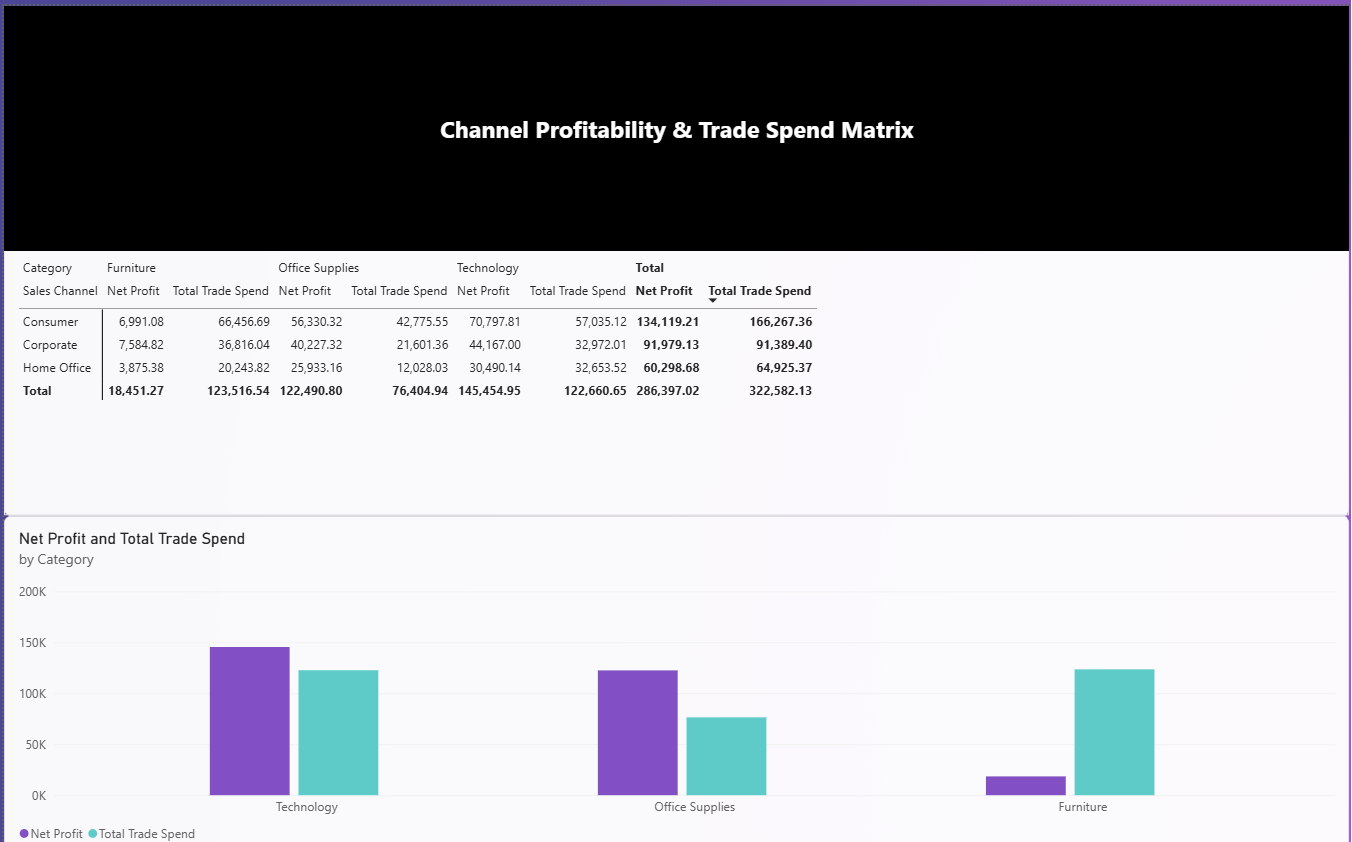

Layout of this report page (visuals, bound fields, positions):
{"tool":"powerbi","page":{"name":"Page 2","canvas":[1920,1080],"ordinal":1},"visuals":[{"type":"pivotTable","fields":{"Columns":["Dim_Product.Category"],"Rows":["Dim_Customer.Segment"],"Values":["Sum(Fact_Sales.Profit)","Dim_Customer.Total Trade Spend"]},"box":[0,270,1538.6,312.9],"z":0},{"type":"clusteredColumnChart","fields":{"Category":["Dim_Product.Category"],"Y":["Sum(Fact_Sales.Profit)","Dim_Customer.Total Trade Spend"]},"box":[0,582.9,1538.6,394.3],"z":1},{"type":"shape","box":[0,0,1538.6,280],"z":2}]}

Visuals, with their boxes on the page's 1920x1080 design canvas (x1, y1, x2, y2). These are canvas units, not pixel positions in the 1352x842 screenshot, which may show the page scaled, cropped or inside an application window:
pivotTable - Dim_Product.Category x Dim_Customer.Segment: <bbox>0, 270, 1539, 583</bbox>
clusteredColumnChart - Dim_Product.Category x Sum(Fact_Sales.Profit): <bbox>0, 583, 1539, 977</bbox>
shape: <bbox>0, 0, 1539, 280</bbox>
